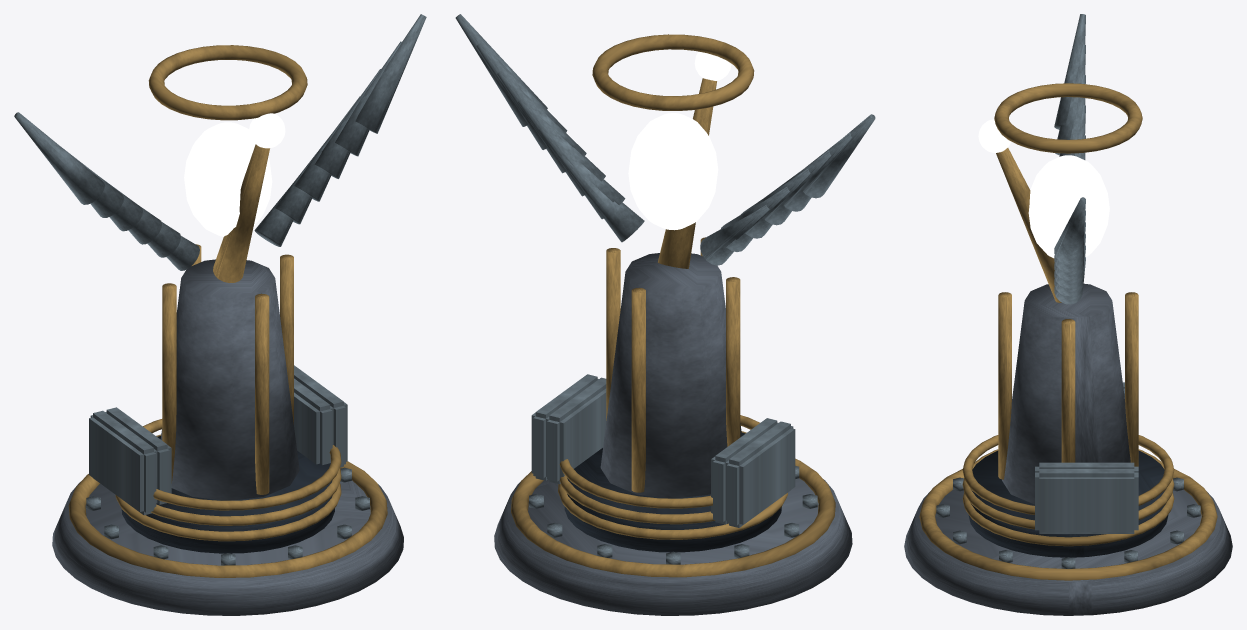
File: tower_skyguard_3.glb
3 renders of one model, left to right at view 1: azimuth 30°, elevation 25°; view 2: azimuth 150°, elevation 25°; view 3: azimuth 270°, elevation 25°, orthographic. The views are drawn at different scales.
Visible parts, largest first — view 1: Weathered_granite, Antique_brass, Weathered_blue_steel.001, Weathered_blue_steel, Antique_brass.001, Lantern_flame, Forged_black_iron; view 2: Weathered_granite, Antique_brass, Weathered_blue_steel, Weathered_blue_steel.001, Lantern_flame, Antique_brass.001, Forged_black_iron; view 3: Weathered_granite, Antique_brass, Weathered_blue_steel, Antique_brass.001, Lantern_flame, Forged_black_iron, Weathered_blue_steel.001.
Boxes of the visible parts, left/top/right/bottom form: Weathered_granite: left=52, top=259, right=403, bottom=615; Antique_brass: left=68, top=244, right=387, bottom=577; Weathered_blue_steel.001: left=14, top=14, right=426, bottom=270; Weathered_blue_steel: left=86, top=365, right=369, bottom=565; Antique_brass.001: left=148, top=45, right=307, bottom=282; Lantern_flame: left=184, top=113, right=285, bottom=236; Forged_black_iron: left=121, top=435, right=334, bottom=553; Weathered_granite: left=494, top=253, right=852, bottom=615; Antique_brass: left=511, top=237, right=835, bottom=577; Weathered_blue_steel: left=529, top=374, right=817, bottom=564; Weathered_blue_steel.001: left=455, top=14, right=875, bottom=265; Lantern_flame: left=628, top=51, right=731, bottom=230; Antique_brass.001: left=592, top=34, right=754, bottom=268; Forged_black_iron: left=564, top=432, right=781, bottom=552; Weathered_granite: left=904, top=283, right=1232, bottom=615; Antique_brass: left=919, top=292, right=1217, bottom=580; Weathered_blue_steel: left=936, top=382, right=1200, bottom=568; Antique_brass.001: left=994, top=83, right=1142, bottom=302; Lantern_flame: left=978, top=119, right=1109, bottom=258; Forged_black_iron: left=968, top=450, right=1168, bottom=557; Weathered_blue_steel.001: left=1054, top=14, right=1085, bottom=304.
Size of the model in its own units: 3.64 by 4 by 2.7.
5 materials, 4 textured.
